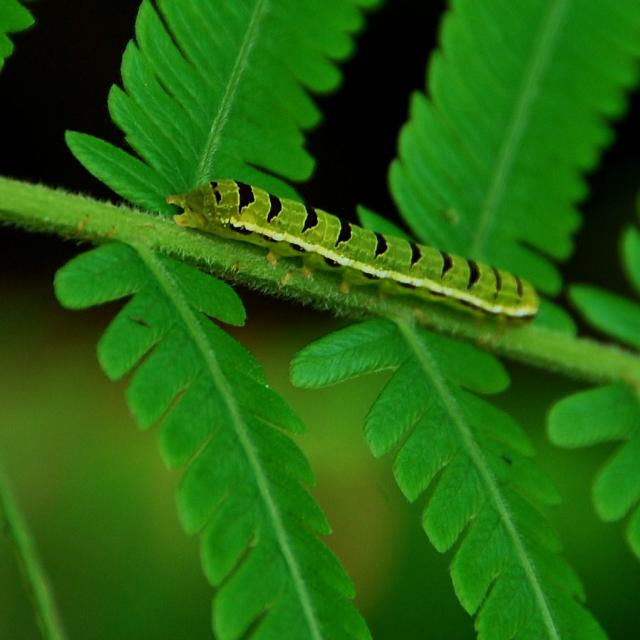caterpillar: (162, 155, 553, 340)
